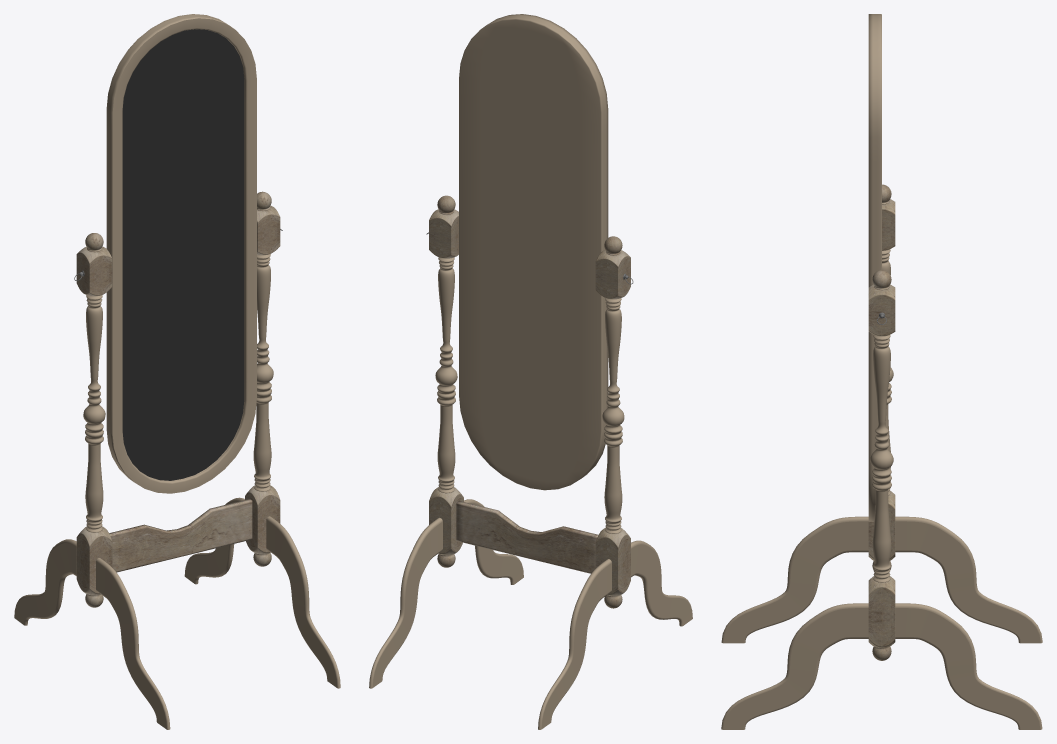
File: Room Mirror.glb
3 views of the same model, side by side, from view 1: azimuth 30°, elevation 25°; view 2: azimuth 150°, elevation 25°; view 3: azimuth 270°, elevation 25° (orthographic). The views are drawn at different scales.
Visible parts, largest first — view 1: Specchio, Struttura; view 2: Struttura; view 3: Struttura.
Part boxes in pixels (left/top/right/bottom): Specchio: left=122, top=29, right=244, bottom=480; Struttura: left=14, top=14, right=340, bottom=729; Struttura: left=369, top=14, right=692, bottom=729; Struttura: left=721, top=14, right=1042, bottom=729.
Bounding box in the file's own units: 55.7 × 164 × 71.86.
3 materials, 1 textured.
